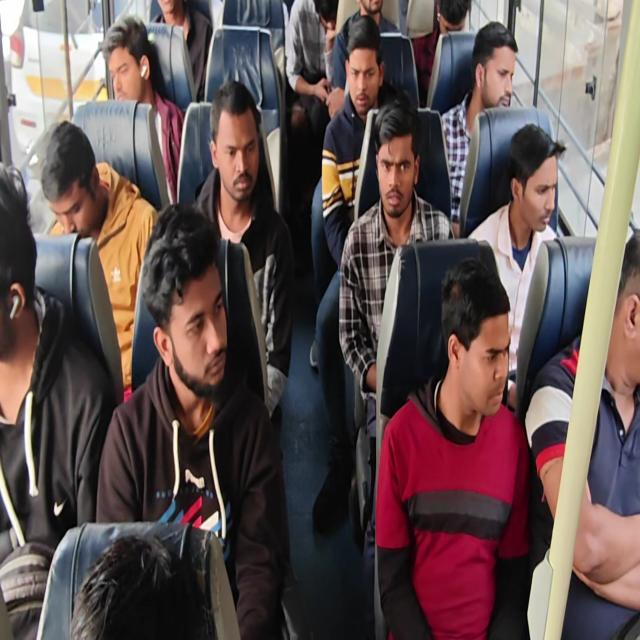person: (67, 504, 228, 640), (152, 224, 230, 384), (0, 146, 46, 365), (39, 106, 110, 237), (504, 140, 571, 265), (452, 294, 515, 412), (606, 221, 640, 390), (369, 116, 415, 228), (106, 12, 154, 111), (339, 30, 388, 121), (476, 30, 522, 105), (423, 0, 472, 62), (308, 0, 343, 58), (353, 0, 392, 34), (148, 0, 192, 30)
